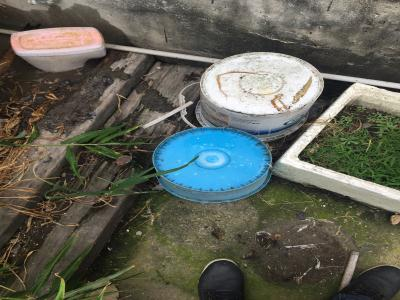bucket: (199, 49, 326, 145)
plate: (149, 124, 275, 207)
styrofoam: (271, 80, 399, 213)
